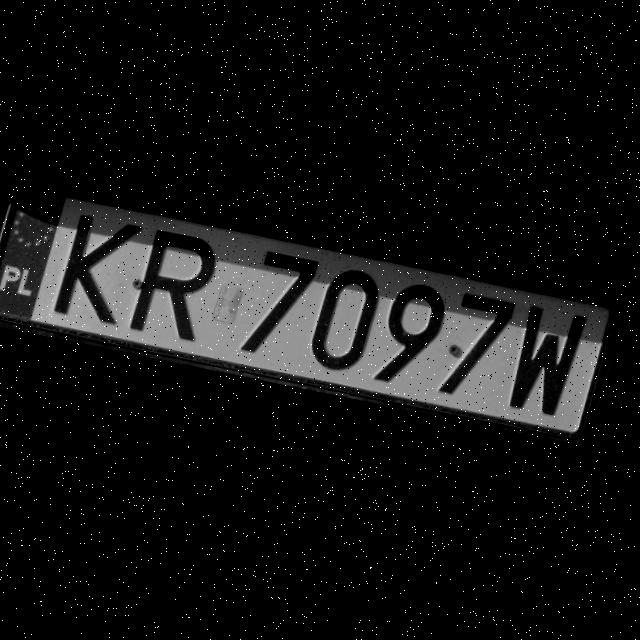license-plates: (0, 185, 613, 438)
